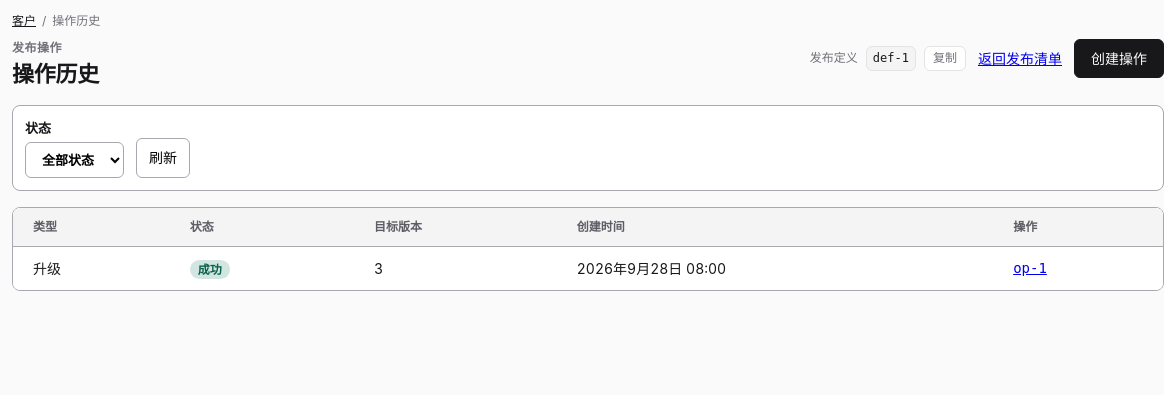
Test: OperationListPage › drops rows from a previous filter when the new filter query fails
Select "已失败" in the dropdown named "status": (74, 160) [25,142,124,178]
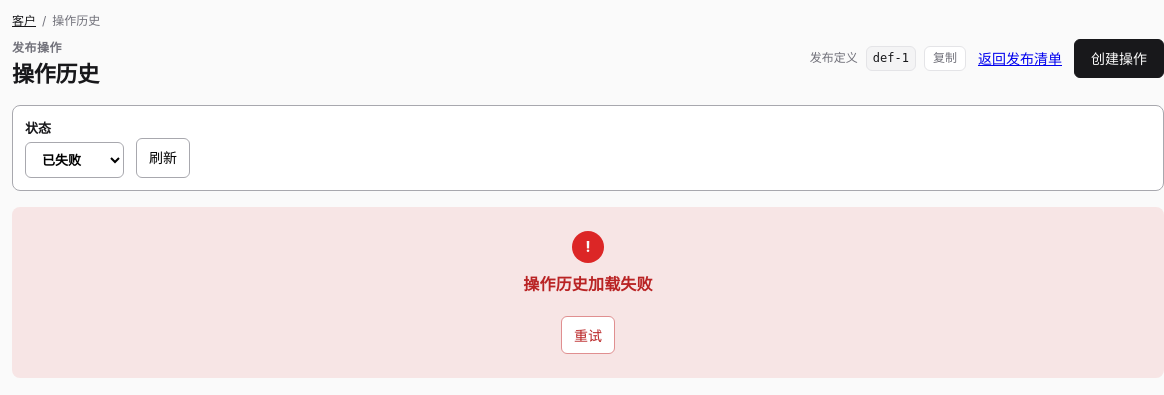
Now the text "操作历史加载失败" is shown, box [523,272,653,297]
